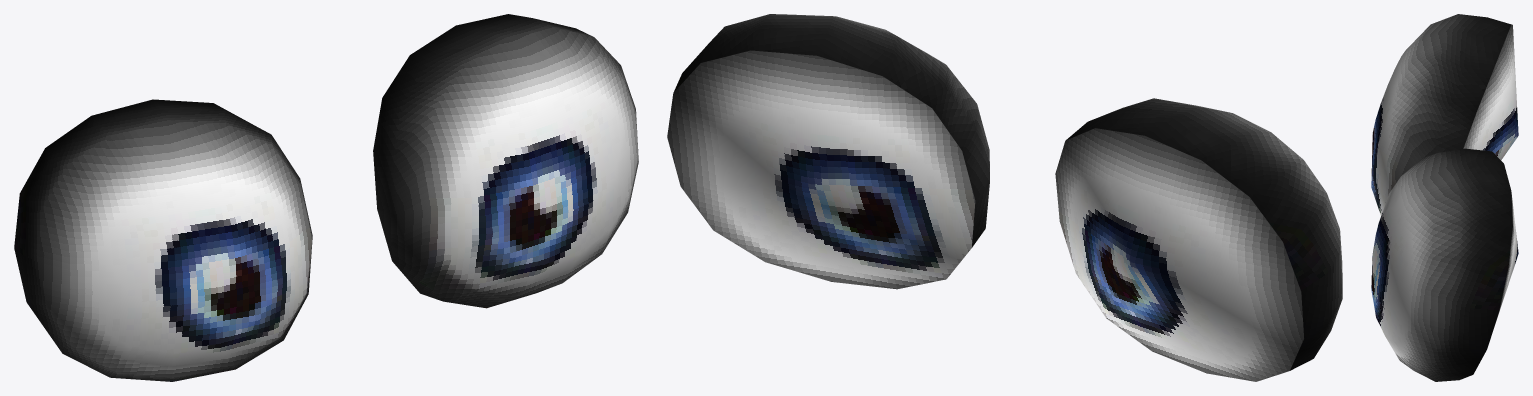
Rendered from m_e_songwon.FBX.
3 views of the same model, side by side, from view 1: azimuth 30°, elevation 25°; view 2: azimuth 150°, elevation 25°; view 3: azimuth 270°, elevation 25° (orthographic). The views are drawn at different scales.
Parts seen in each view (by area): view 1: Object01; view 2: Object01; view 3: Object01.
Boxes of the visible parts, left/top/right/bottom form: Object01: left=14, top=14, right=638, bottom=381; Object01: left=667, top=14, right=1342, bottom=381; Object01: left=1371, top=14, right=1518, bottom=381.
Size of the model in its own units: 5.17 by 2.03 by 1.35.
